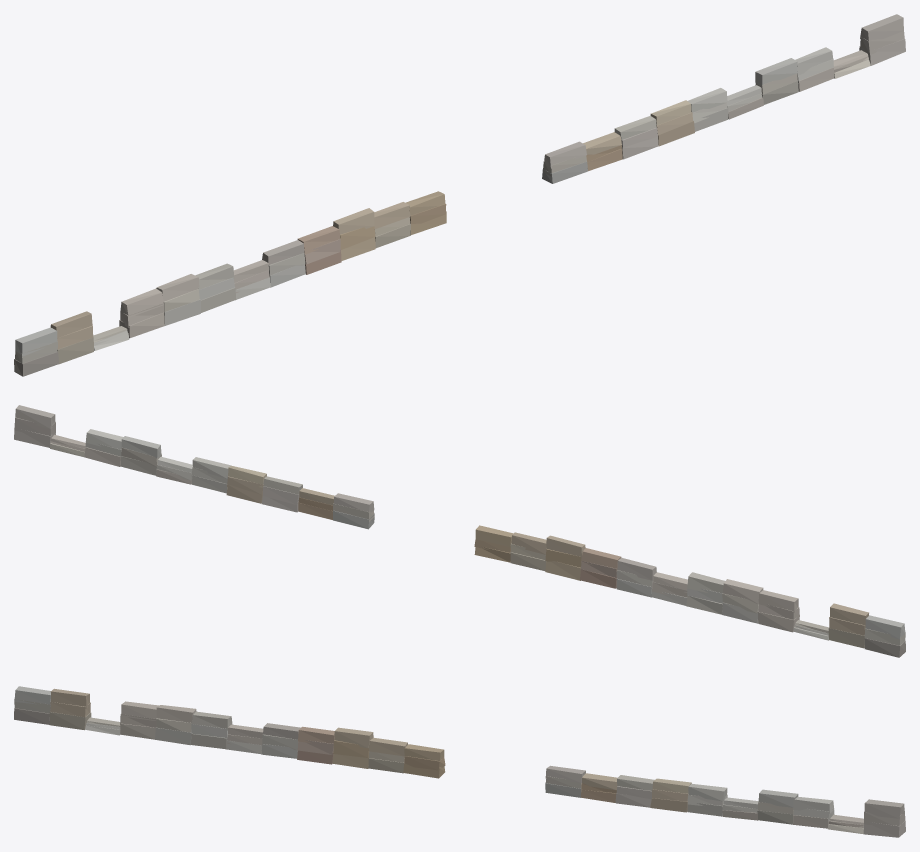
File: farm_26_18_mid.glb
3 renders of one model, top to bottom at view 1: azimuth 30°, elevation 25°; view 2: azimuth 150°, elevation 25°; view 3: azimuth 330°, elevation 25°, orthographic. The views are drawn at different scales.
Visible parts, largest first — view 1: geometry_0; view 2: geometry_0; view 3: geometry_0.
Part boxes in pixels (<box>): geometry_0: <box>14,14,905,376</box>; geometry_0: <box>14,405,905,657</box>; geometry_0: <box>14,686,905,837</box>.
Bounding box in the file's own units: 39.42 × 3.61 × 4.65.
